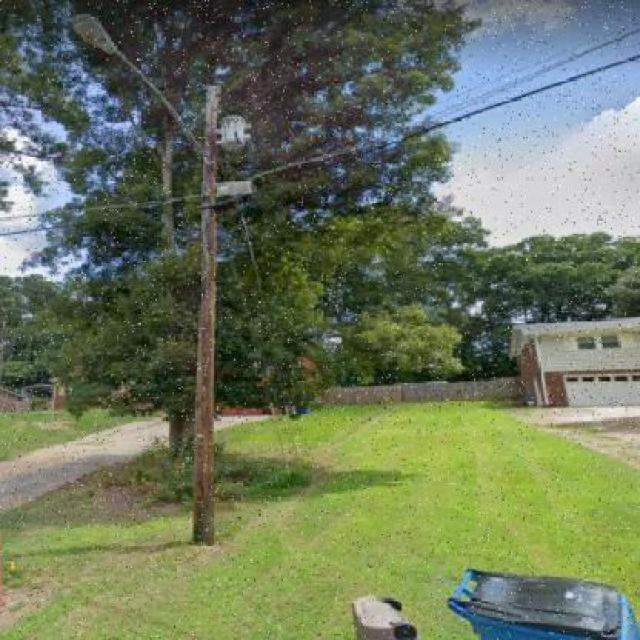pole: (191, 80, 220, 549)
transformer: (218, 115, 254, 152)
wire: (252, 54, 640, 182), (354, 23, 640, 146)
